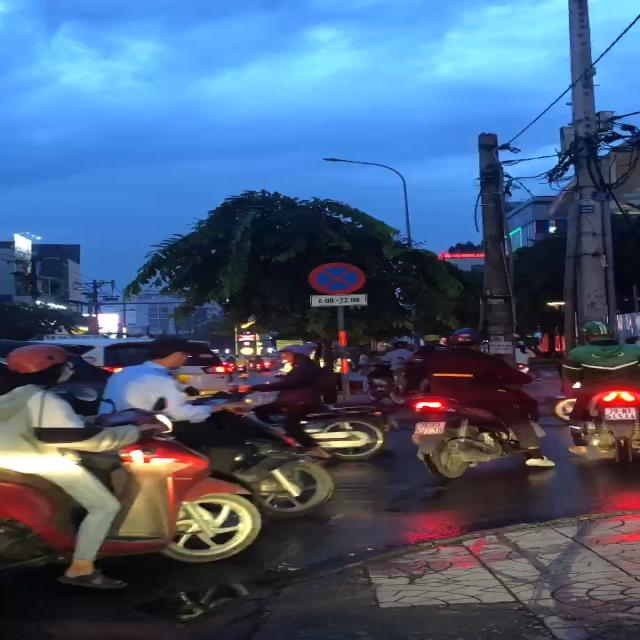Bien bao cam dung xe va do xe: (304, 260, 366, 296)
